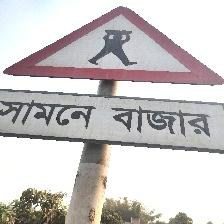Market-in-front: (1, 4, 223, 151)
